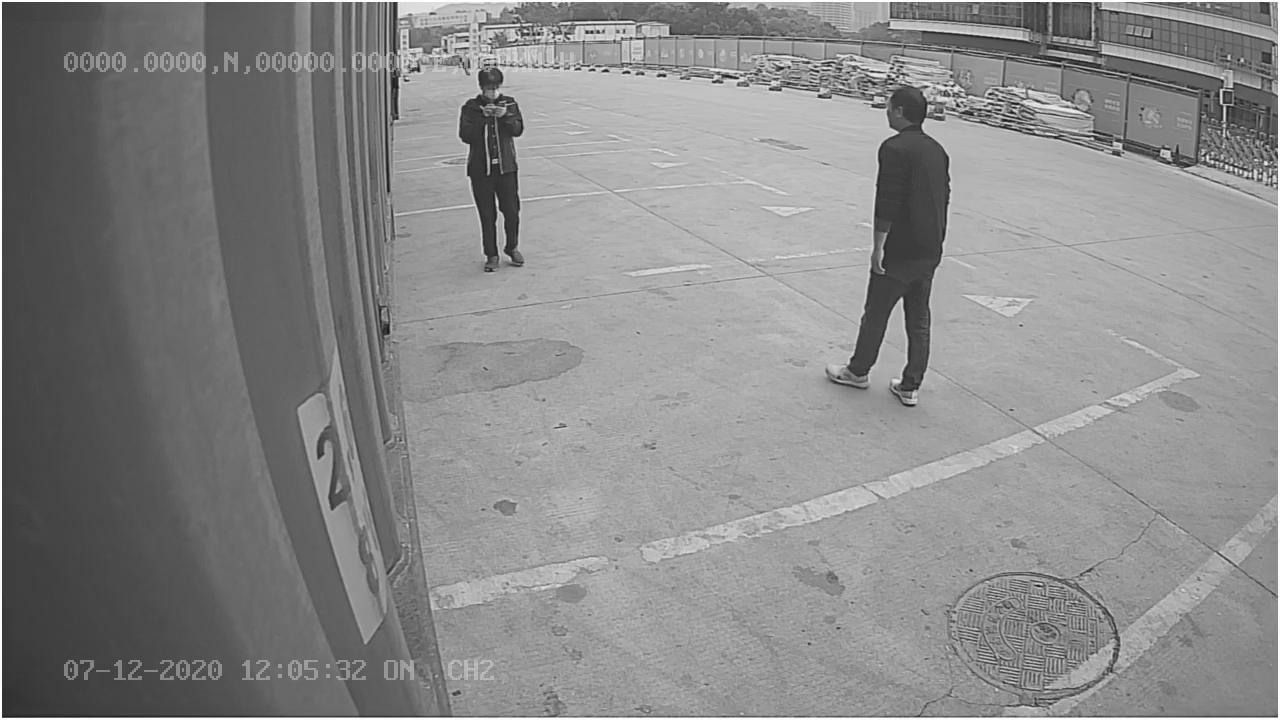person: (821, 83, 960, 407)
